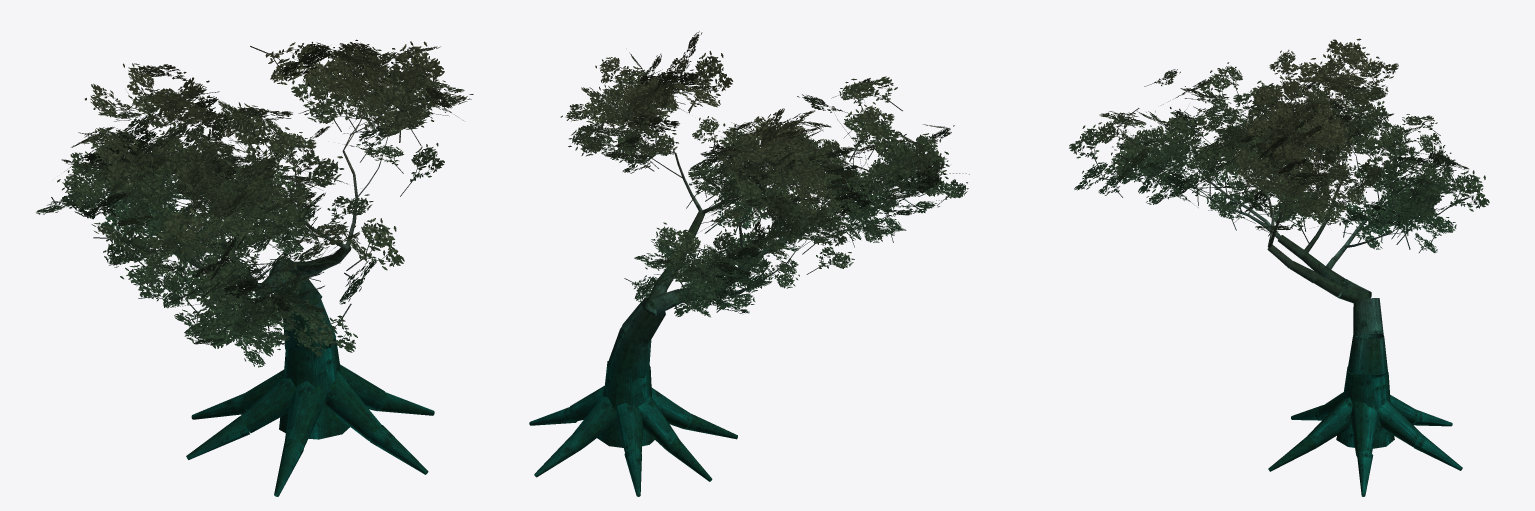
The model's file is tree_oak_gnarled_lush.glb.
The picture shows the model from 3 angles, left to right: view 1: azimuth 30°, elevation 25°; view 2: azimuth 150°, elevation 25°; view 3: azimuth 270°, elevation 25°; orthographic projection. The views are drawn at different scales.
Parts seen in each view (by area): view 1: tree_oak_gnarled_LOD0; view 2: tree_oak_gnarled_LOD0; view 3: tree_oak_gnarled_LOD0.
Part boxes in pixels (x1,y1,x2,y2): tree_oak_gnarled_LOD0: (36, 39, 473, 496); tree_oak_gnarled_LOD0: (529, 31, 969, 496); tree_oak_gnarled_LOD0: (1069, 38, 1489, 496).
Size of what is drawn, in the model's own units: 8.48 by 8.47 by 9.82.
2 materials, 2 textured.
